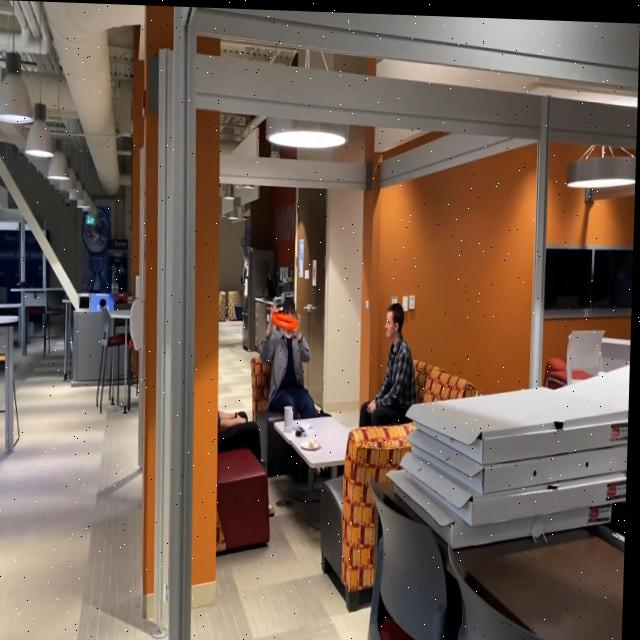note: (272, 306, 301, 330)
